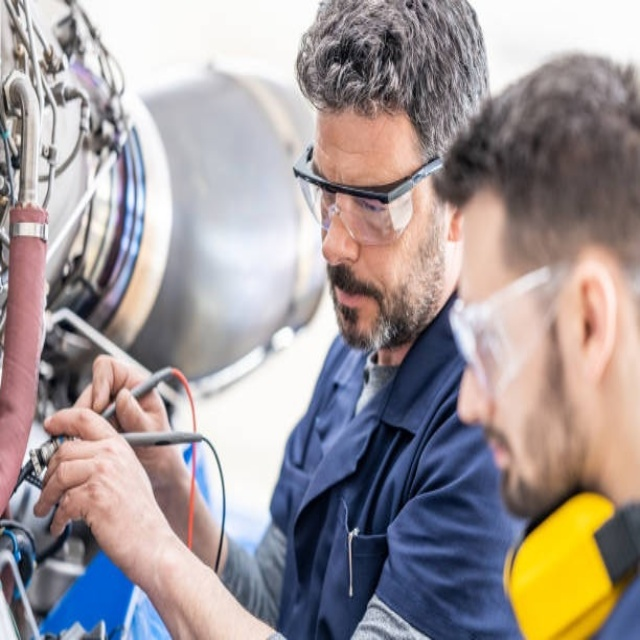Gafas: (447, 256, 574, 400), (288, 135, 441, 246)
Sin_guantes: (34, 388, 171, 561), (71, 344, 186, 497)
Sin_mascara: (468, 417, 539, 508), (323, 262, 396, 348)
